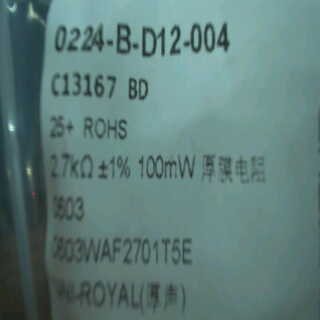2.7kR: (45, 153, 96, 185)
